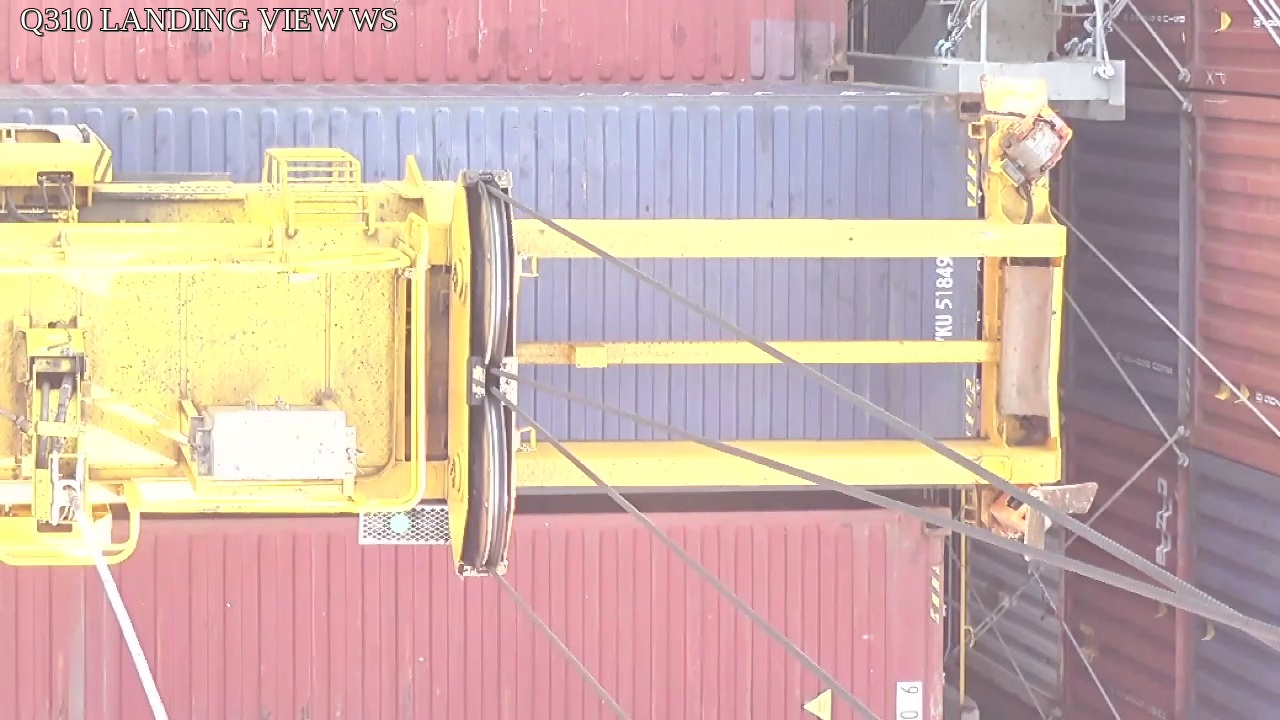right: (446, 170, 520, 583)
